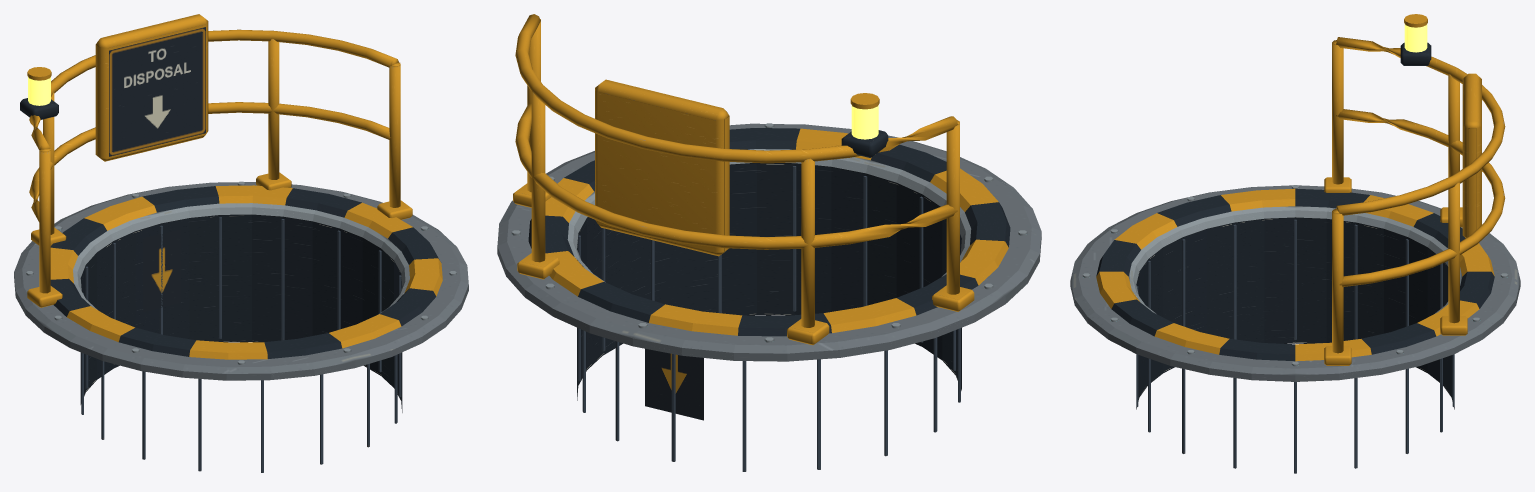
File: disposal-chute.glb
3 views of the same model, side by side, from view 1: azimuth 30°, elevation 25°; view 2: azimuth 150°, elevation 25°; view 3: azimuth 270°, elevation 25° (orthographic). The views are drawn at different scales.
Parts seen in each view (by area): view 1: Disposal_Frame; view 2: Disposal_Frame; view 3: Disposal_Frame.
Part boxes in pixels (<box>): Disposal_Frame: <box>14,14,468,472</box>; Disposal_Frame: <box>497,14,1041,471</box>; Disposal_Frame: <box>1070,14,1520,473</box>.
Size of the model in its own units: 2.8 by 2.22 by 2.8.
1 material, 1 textured.
